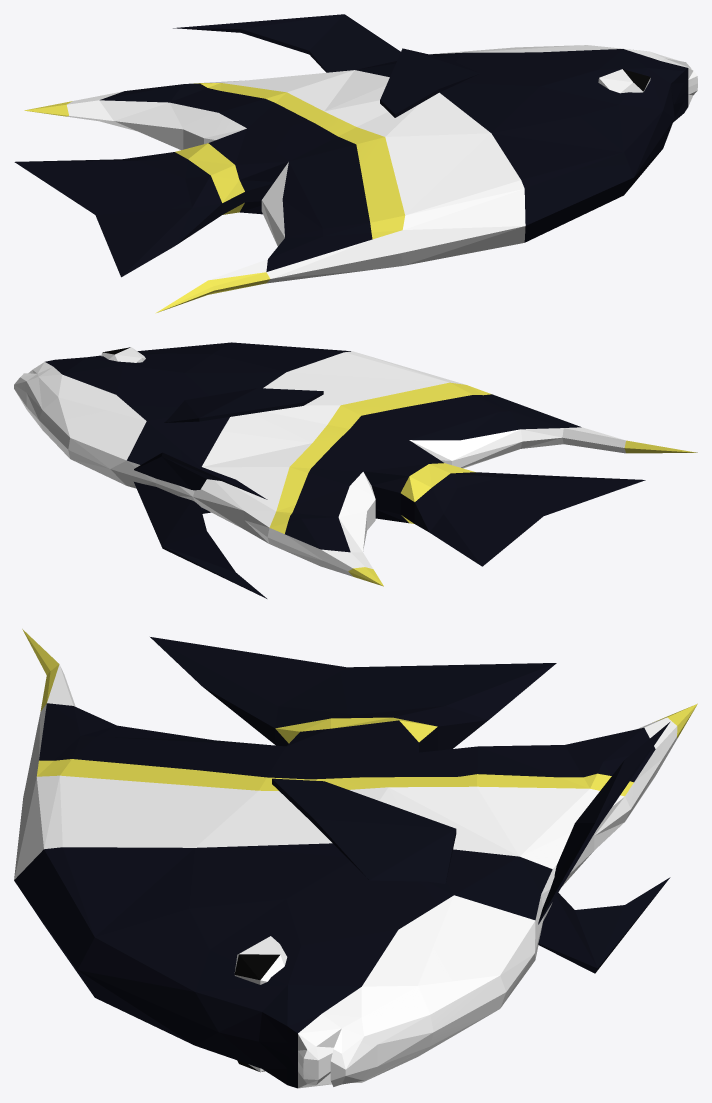
The model's file is AngelfishDrip.glb.
3 views of the same model, one above another, from view 1: azimuth 30°, elevation 25°; view 2: azimuth 150°, elevation 25°; view 3: azimuth 270°, elevation 25° (orthographic). The views are drawn at different scales.
Visible parts, largest first — view 1: AngelfishDrip; view 2: AngelfishDrip; view 3: AngelfishDrip.
Boxes of the visible parts, x1=… form: AngelfishDrip: x1=14, y1=14, x2=697, y2=313; AngelfishDrip: x1=14, y1=342, x2=697, y2=598; AngelfishDrip: x1=14, y1=629, x2=697, y2=1088.
Size of the model in its own units: 0.3053 by 0.0499 by 0.1986.
Materials: 1 (1 with a texture image).
